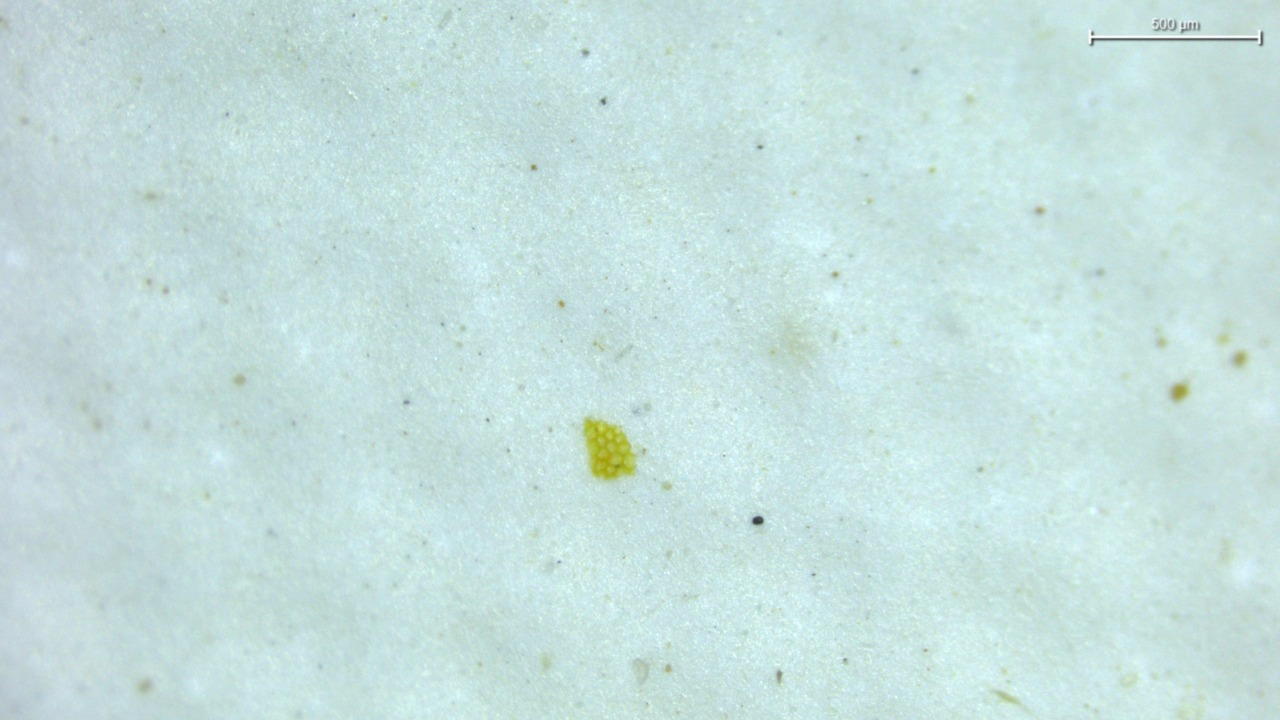microplastic_fragment: (584, 418, 635, 479)
